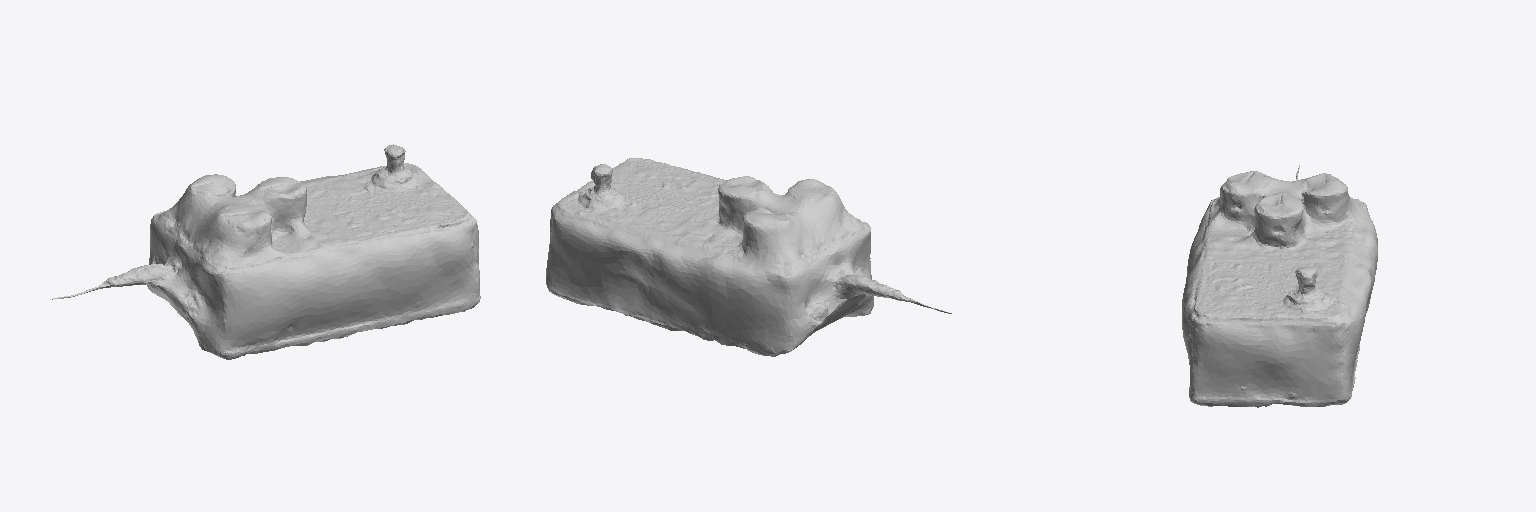
The model's file is usdz.obj.
The picture shows the model from 3 angles: view 1: azimuth 30°, elevation 25°; view 2: azimuth 150°, elevation 25°; view 3: azimuth 270°, elevation 25°; orthographic projection.
Visible parts, largest first — view 1: submesh; view 2: submesh; view 3: submesh.
Boxes of the visible parts, box(x1,y1,x2,y2) form: submesh: box(52, 144, 480, 359); submesh: box(546, 158, 951, 356); submesh: box(1182, 165, 1377, 407).
Size of the model in its own units: 0.1801 by 0.0587 by 0.0791.